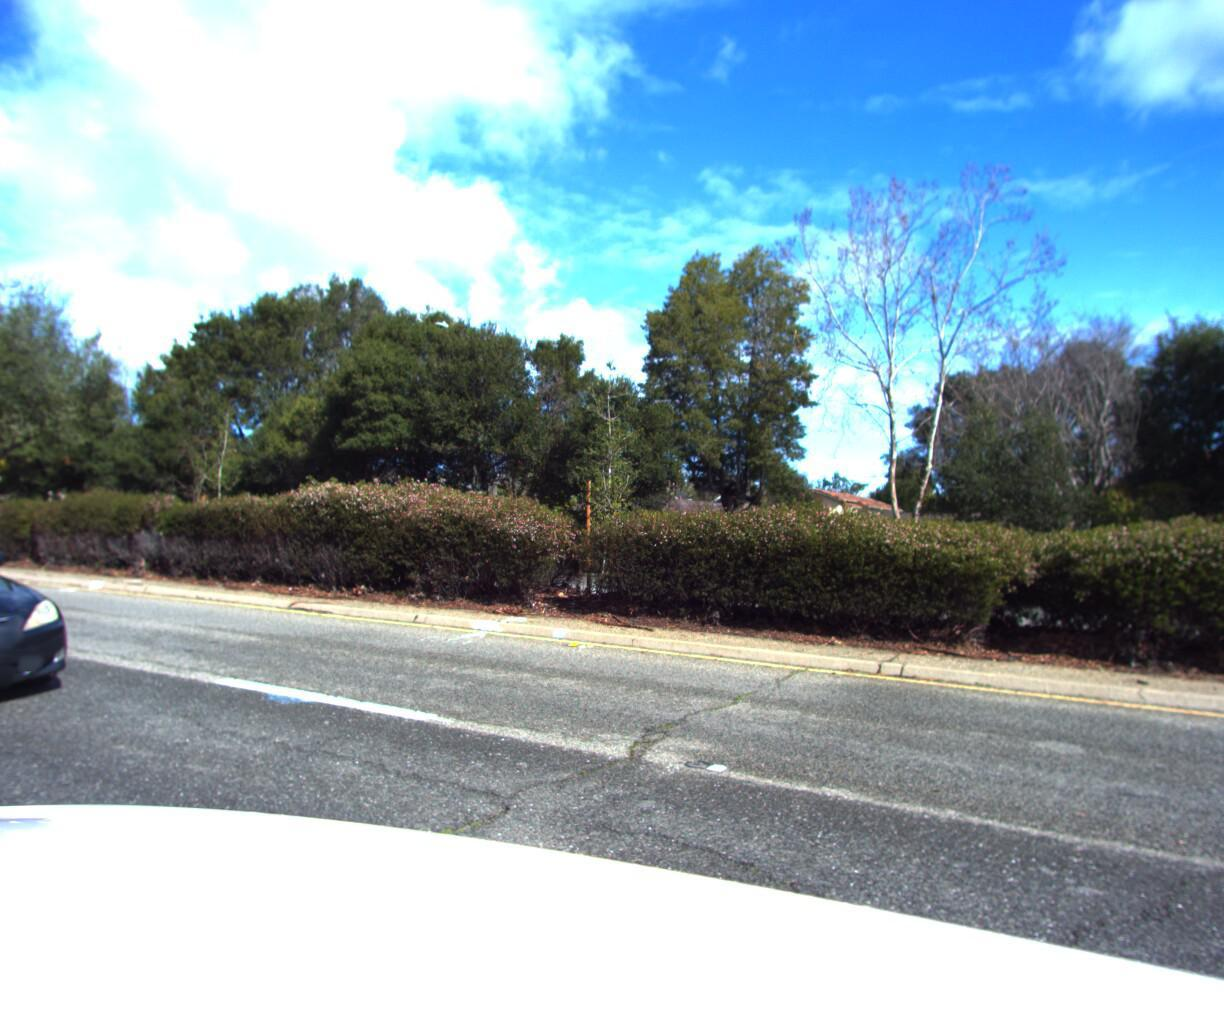car: (0, 502, 114, 744), (0, 500, 7, 596)
